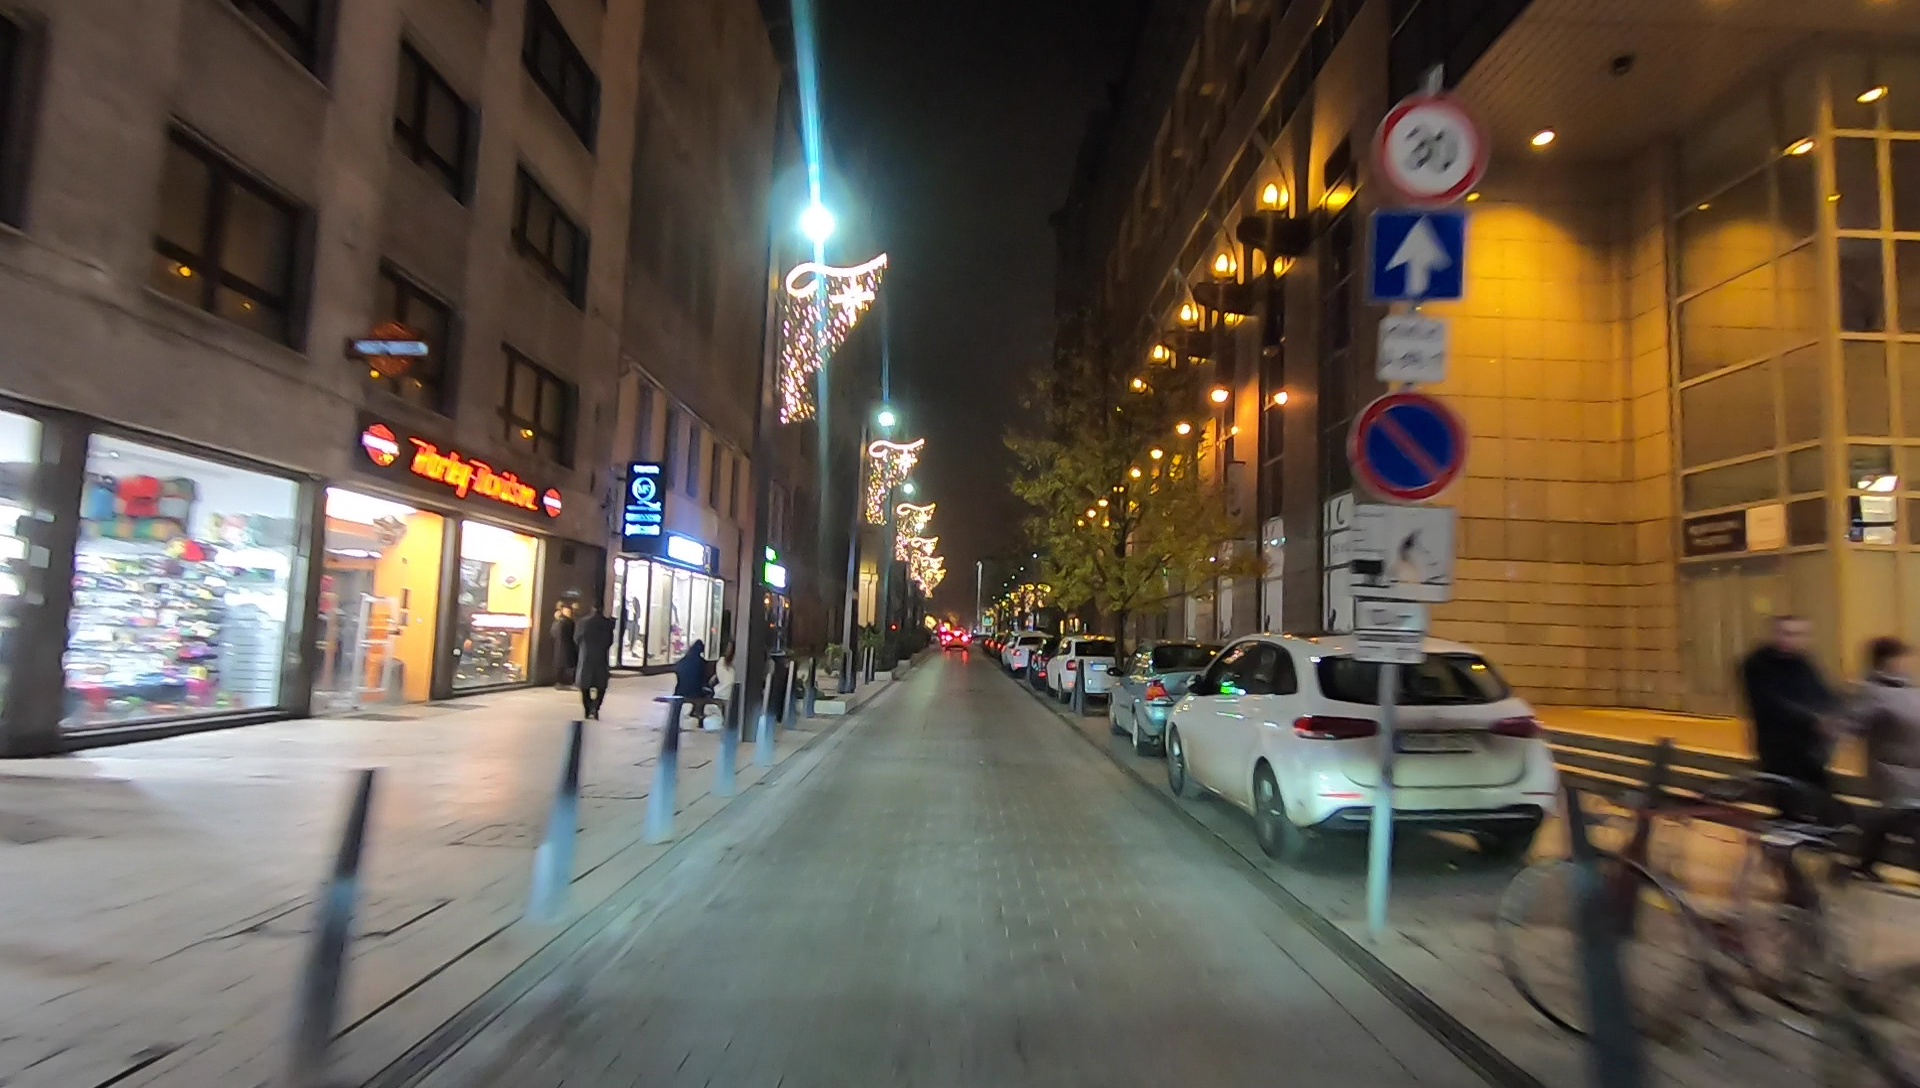person: (1747, 619, 1839, 832), (1847, 626, 1919, 880), (576, 608, 610, 721), (551, 604, 576, 693)
